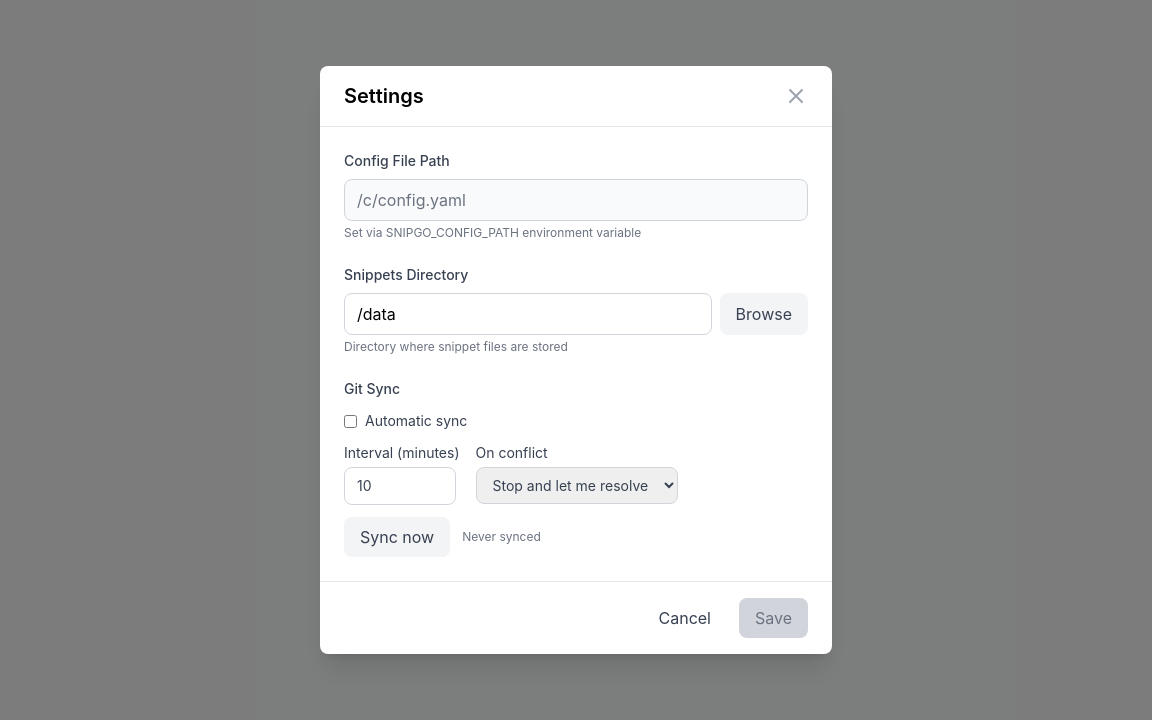
Scenario: SettingsPage sync › shows a validation error for an interval below 1
This screenshot has width=1152, height=720.
Replace the text in the number field labelled "Interval (minutes)" with "0": (400, 486) [344, 467, 456, 505]
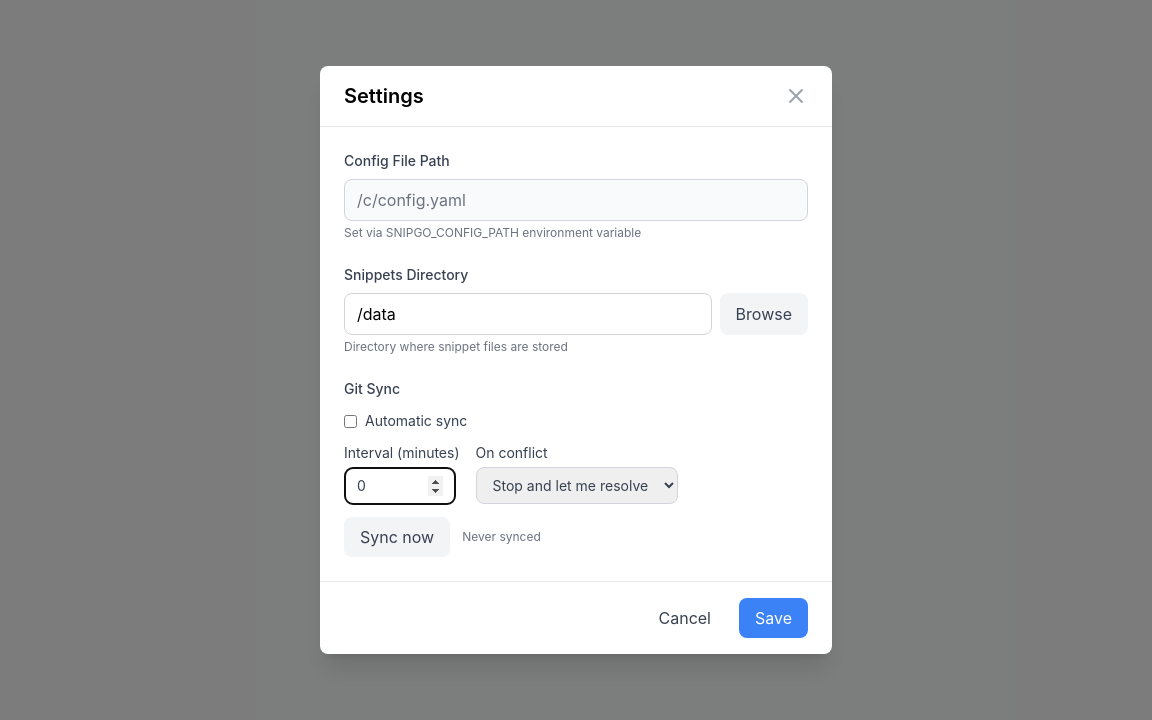
Click the button "Save": (774, 618) [739, 598, 808, 638]
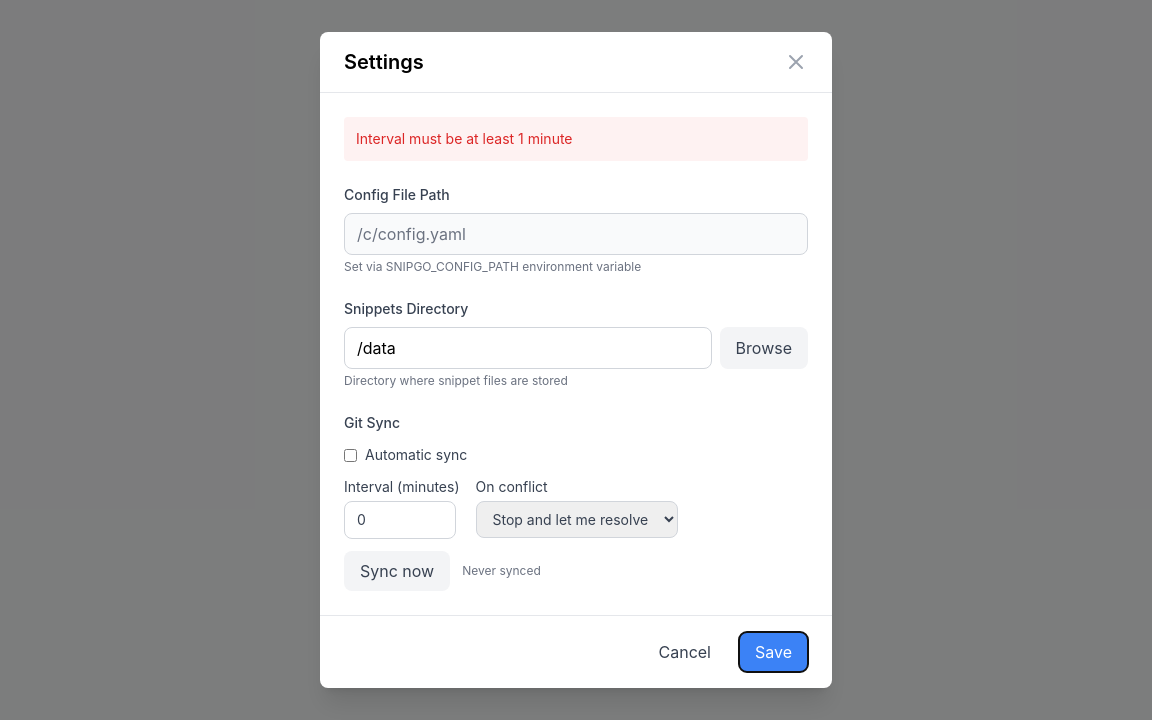
Check: the text "Interval must be at least 1 minute" is shown, box [344, 117, 808, 161]
